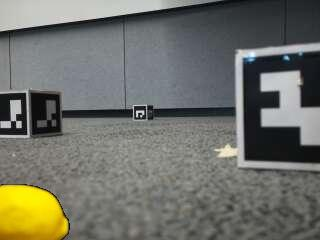lemon: (0, 187, 68, 240)
